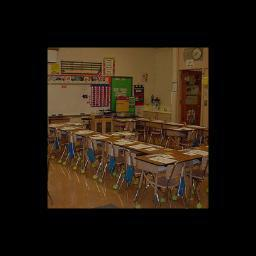Puerta: (181, 70, 202, 126)
